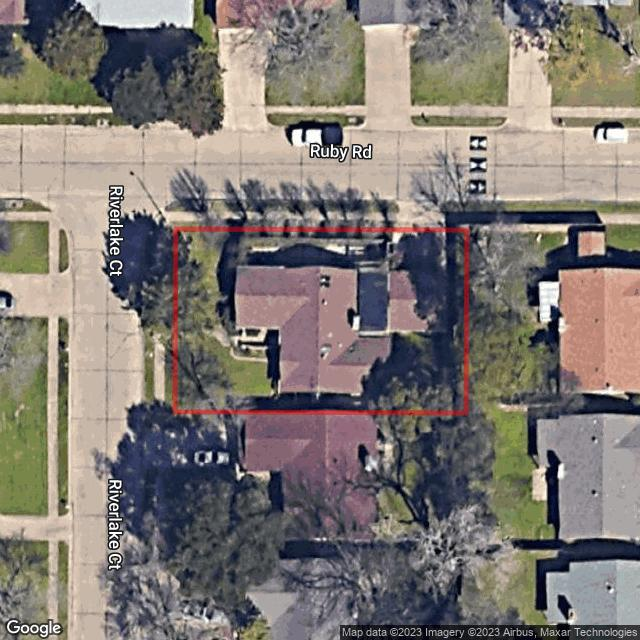Driveway: (359, 234, 446, 331)
Extra Driveway: (396, 200, 444, 226)
Extra Lawn: (175, 199, 400, 214), (144, 332, 155, 402), (164, 342, 171, 405), (441, 200, 469, 211)
Extra Sidewalk: (177, 209, 395, 223), (154, 334, 165, 401), (446, 212, 468, 227)
House: (235, 266, 391, 394)
Other: (388, 271, 445, 330)
